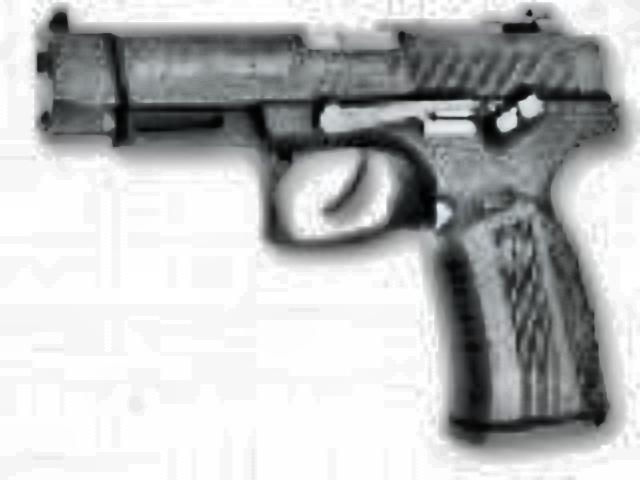pistol: (36, 0, 624, 448)
